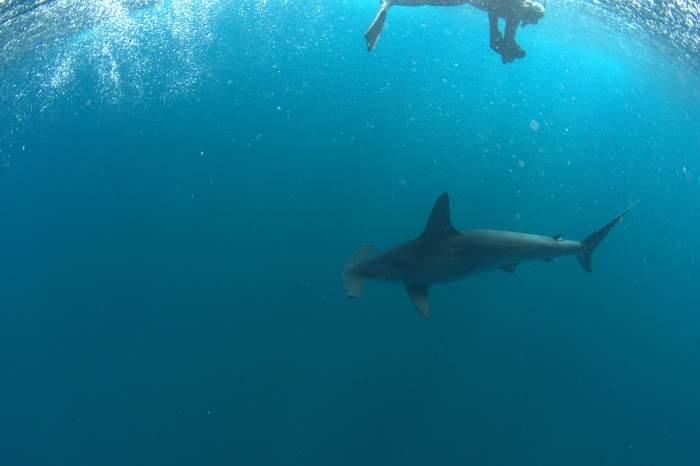Hammer: (326, 162, 635, 381)
